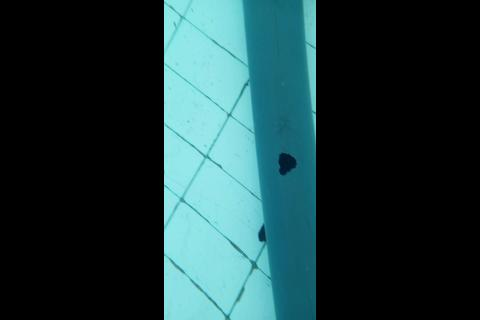kebocoran: (277, 151, 299, 178)
